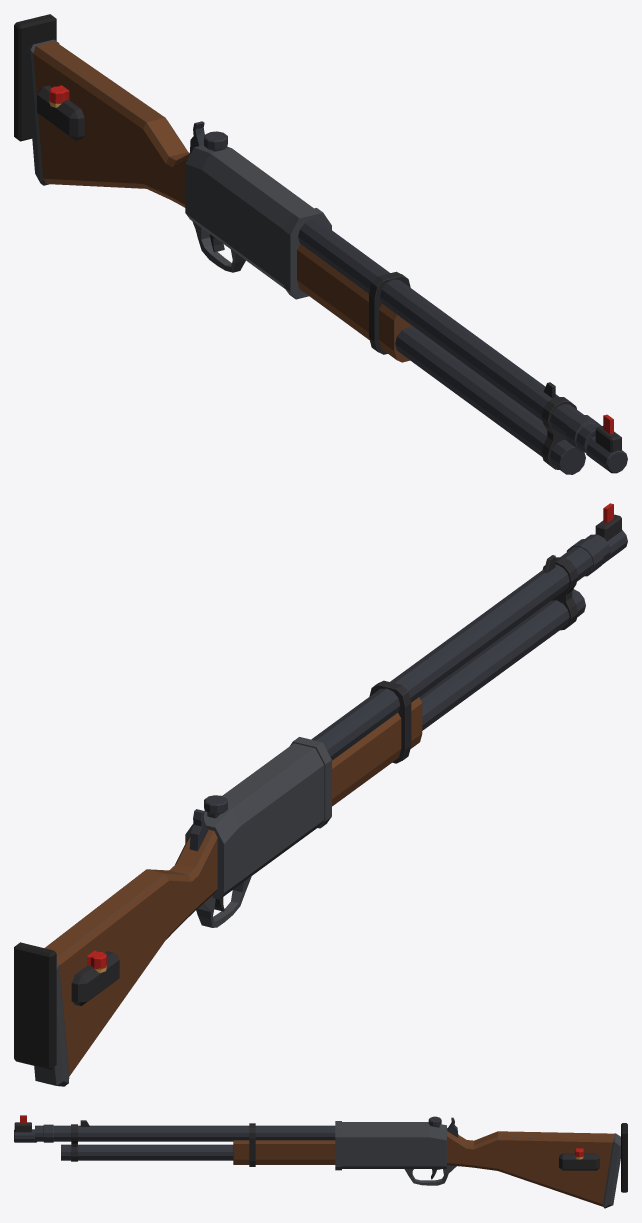
File: pump_shotgun.glb
The picture shows the model from 3 angles, top to bottom: view 1: azimuth 30°, elevation 25°; view 2: azimuth 150°, elevation 25°; view 3: azimuth 270°, elevation 25°; orthographic projection. The views are drawn at different scales.
Parts seen in each view (by area): view 1: pump_shotgun; view 2: pump_shotgun; view 3: pump_shotgun.
Boxes of the visible parts, x1,y1,x2,y2 form: pump_shotgun: (14,14,627,474); pump_shotgun: (14,503,627,1086); pump_shotgun: (14,1115,627,1208).
Size of the model in its own units: 0.0308 by 0.0916 by 0.566.
